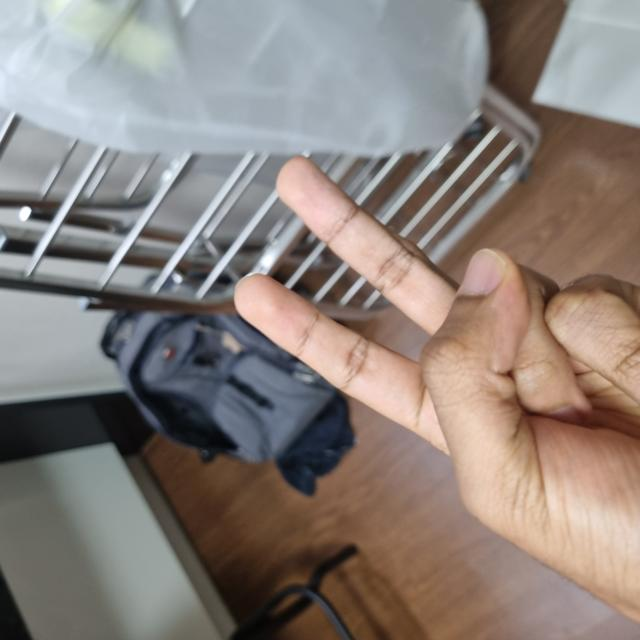Scissors: (7, 236, 485, 640)
